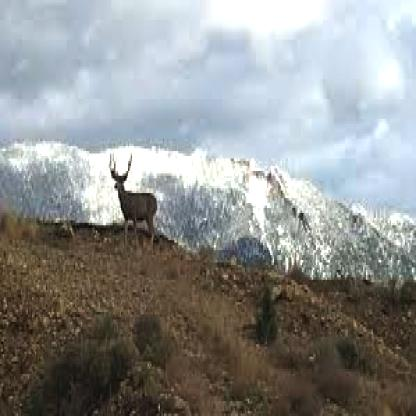Deer: (108, 152, 159, 252)
